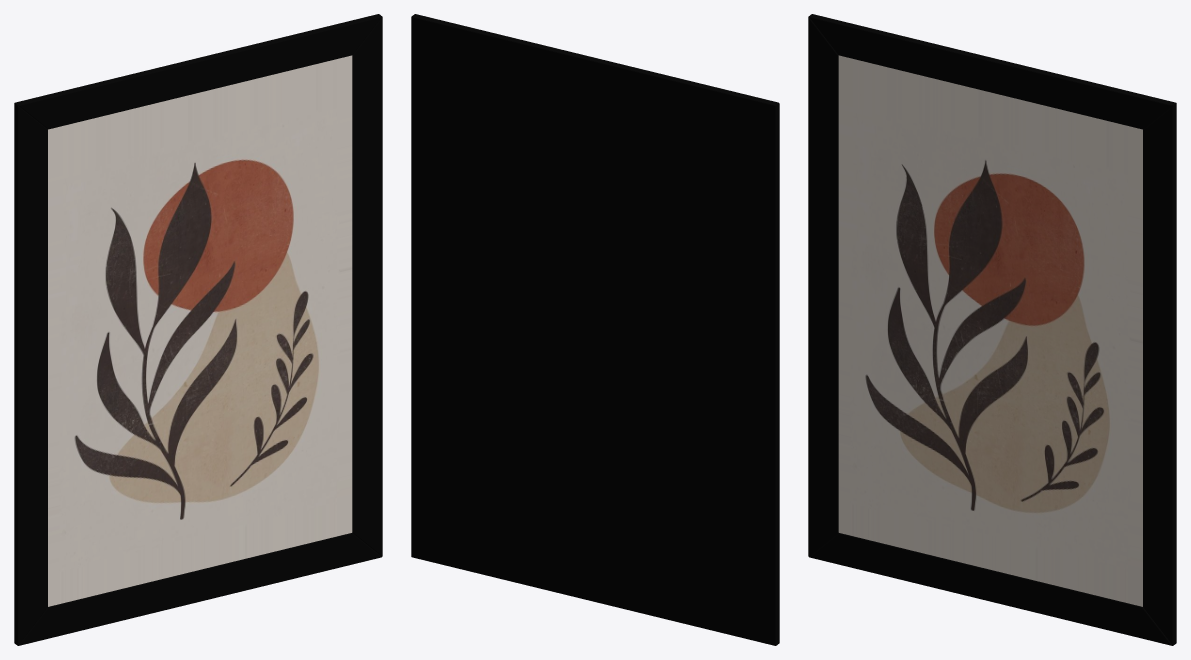
The model's file is photoframe.fbx.
The picture shows the model from 3 angles, left to right: view 1: azimuth 30°, elevation 25°; view 2: azimuth 150°, elevation 25°; view 3: azimuth 330°, elevation 25°; orthographic projection.
Visible parts, largest first — view 1: Plane.014, Plane.013; view 2: Plane.013; view 3: Plane.014, Plane.013.
Part boxes in pixels (x1,y1,x2,y2): Plane.014: [48, 55, 352, 606]; Plane.013: [14, 14, 382, 645]; Plane.013: [411, 14, 779, 645]; Plane.014: [838, 55, 1142, 606]; Plane.013: [808, 14, 1176, 645].
Bounding box in the file's own units: 72 × 102 × 1.36.
